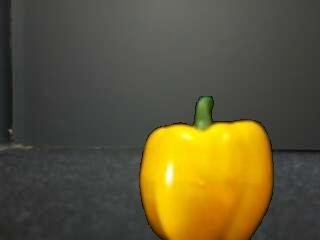Capsicum: (137, 93, 277, 240)
